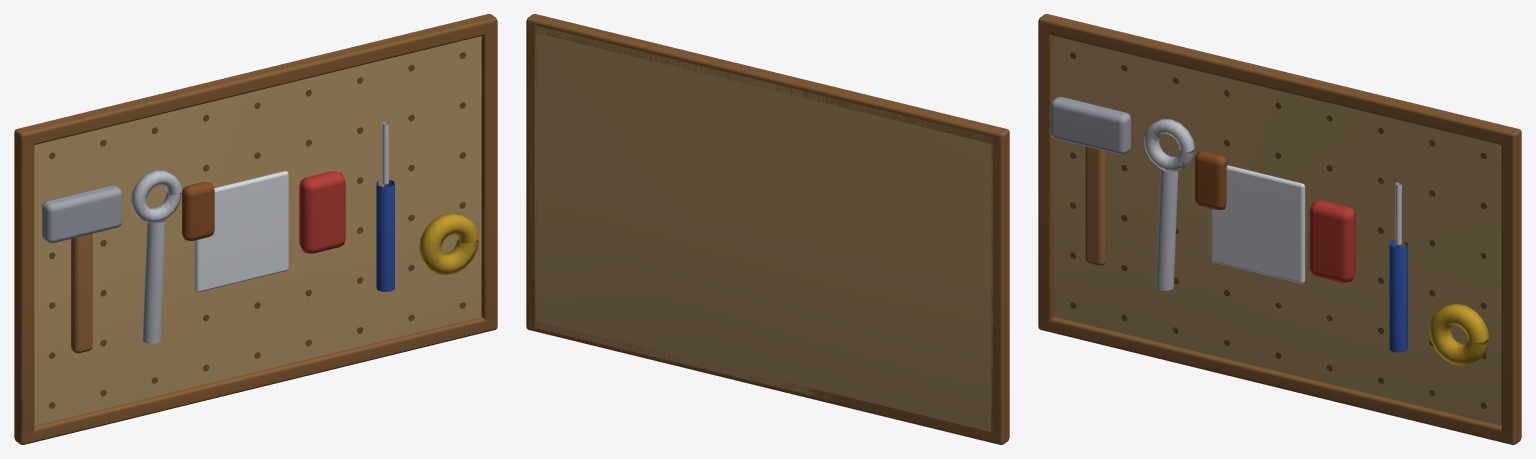
The model's file is furn_pegboard.glb.
3 renders of one model, left to right at view 1: azimuth 30°, elevation 25°; view 2: azimuth 150°, elevation 25°; view 3: azimuth 330°, elevation 25°, orthographic.
Visible parts, largest first — view 1: furn_pegboard_main, furn_pegboard_gloss; view 2: furn_pegboard_main; view 3: furn_pegboard_main, furn_pegboard_gloss.
Part boxes in pixels (x1,y1,x2,y2): furn_pegboard_main: [14, 14, 497, 444]; furn_pegboard_gloss: [42, 122, 388, 343]; furn_pegboard_main: [526, 14, 1009, 444]; furn_pegboard_main: [1038, 14, 1521, 444]; furn_pegboard_gloss: [1050, 97, 1401, 290].
Bounding box in the file's own units: 2 × 1.25 × 0.12.
